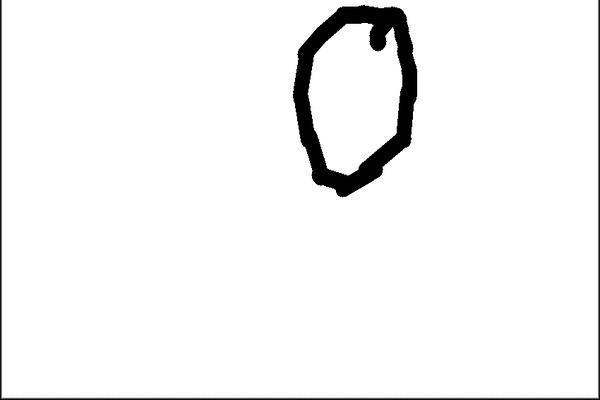O: (283, 0, 422, 205)
